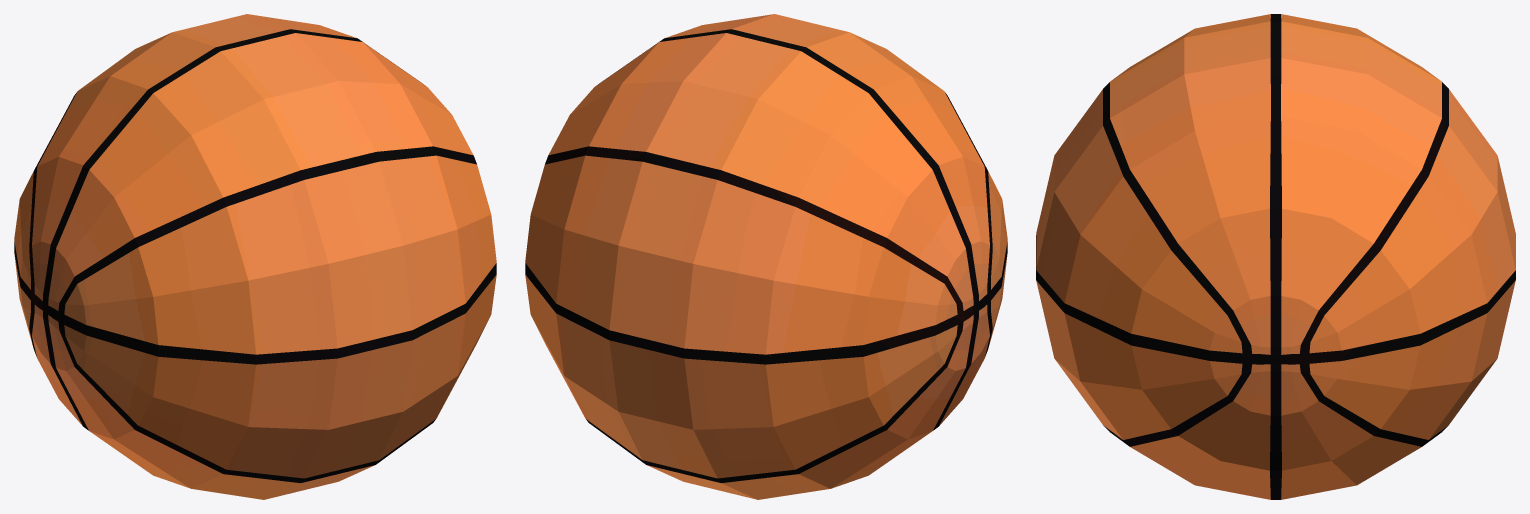
File: basketball.glb
The picture shows the model from 3 angles, left to right: view 1: azimuth 30°, elevation 25°; view 2: azimuth 150°, elevation 25°; view 3: azimuth 270°, elevation 25°; orthographic projection.
Visible parts, largest first — view 1: Sphere; view 2: Sphere; view 3: Sphere.
Part boxes in pixels (<box>): Sphere: <box>14,14,496,499</box>; Sphere: <box>525,14,1007,499</box>; Sphere: <box>1036,14,1515,499</box>.
Bounding box in the file's own units: 0.2431 × 0.24 × 0.24.
Materials: 1 (1 with a texture image).
